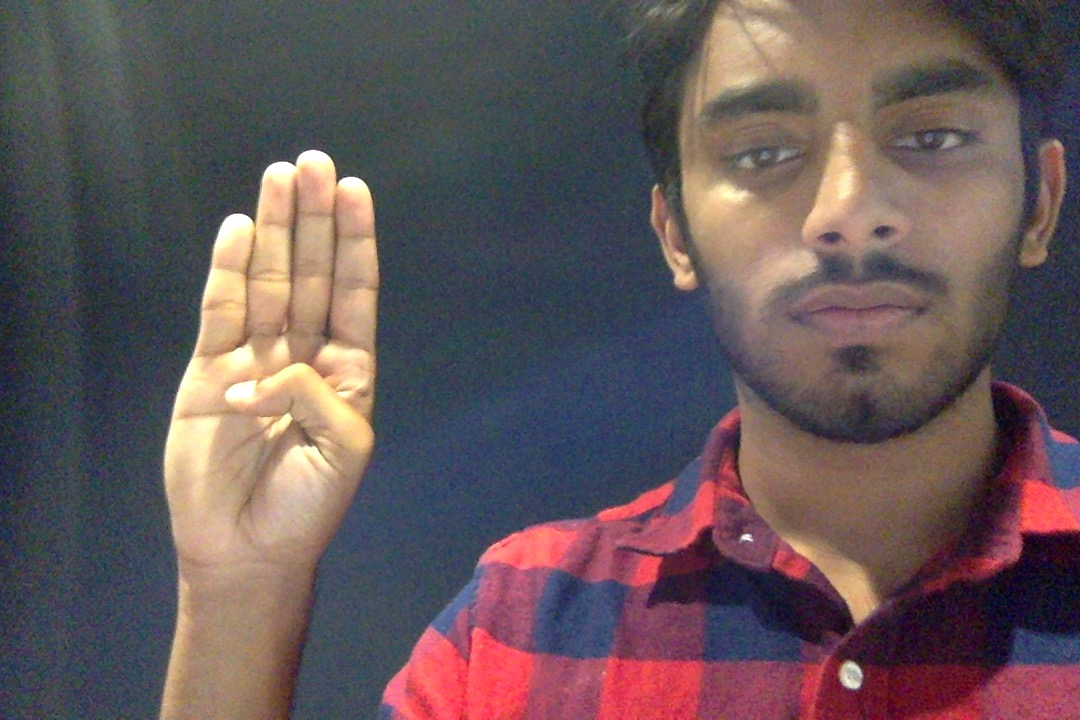b: (148, 140, 393, 645)
